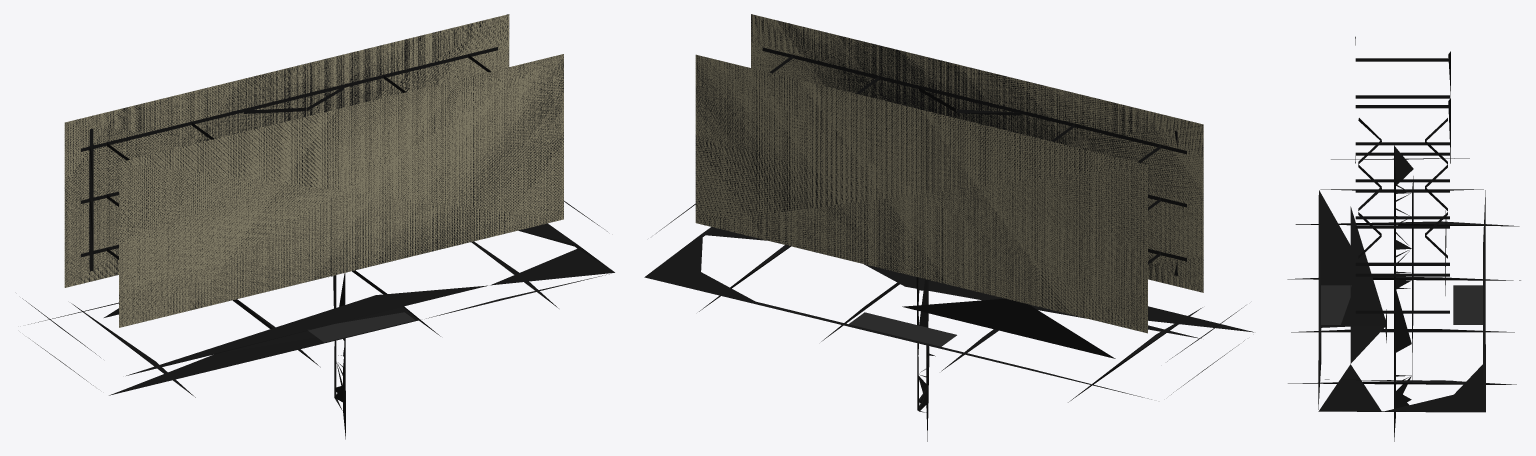
The model's file is billboard-tall.zfix-v5.lod2.glb.
3 views of the same model, side by side, from view 1: azimuth 30°, elevation 25°; view 2: azimuth 150°, elevation 25°; view 3: azimuth 270°, elevation 25° (orthographic). The views are drawn at different scales.
Visible parts, largest first — view 1: ADs_AD_0; view 2: ADs_AD_0; view 3: ADs_AD_0.
Boxes of the visible parts, left/top/right/bottom form: ADs_AD_0: left=22, top=14, right=614, bottom=439; ADs_AD_0: left=644, top=14, right=1253, bottom=441; ADs_AD_0: left=1287, top=36, right=1520, bottom=441.
Bounding box in the file's own units: 10.94 × 7.34 × 4.95.
